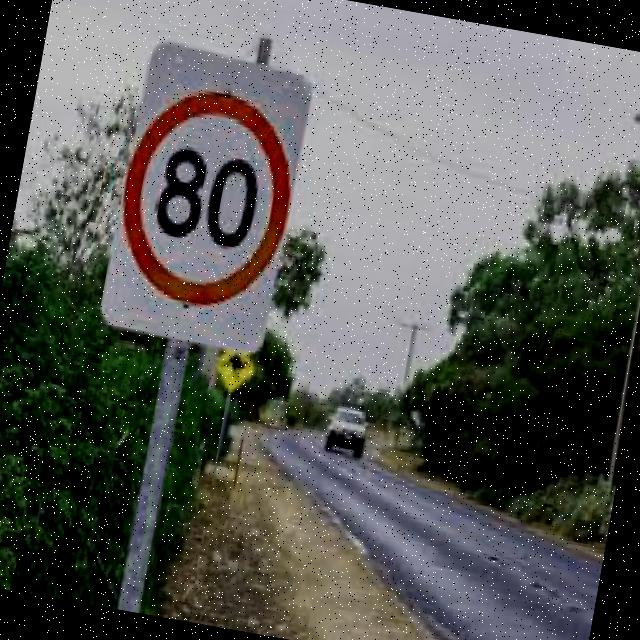Ograniczenie predkosci do 80: (104, 76, 307, 320)
